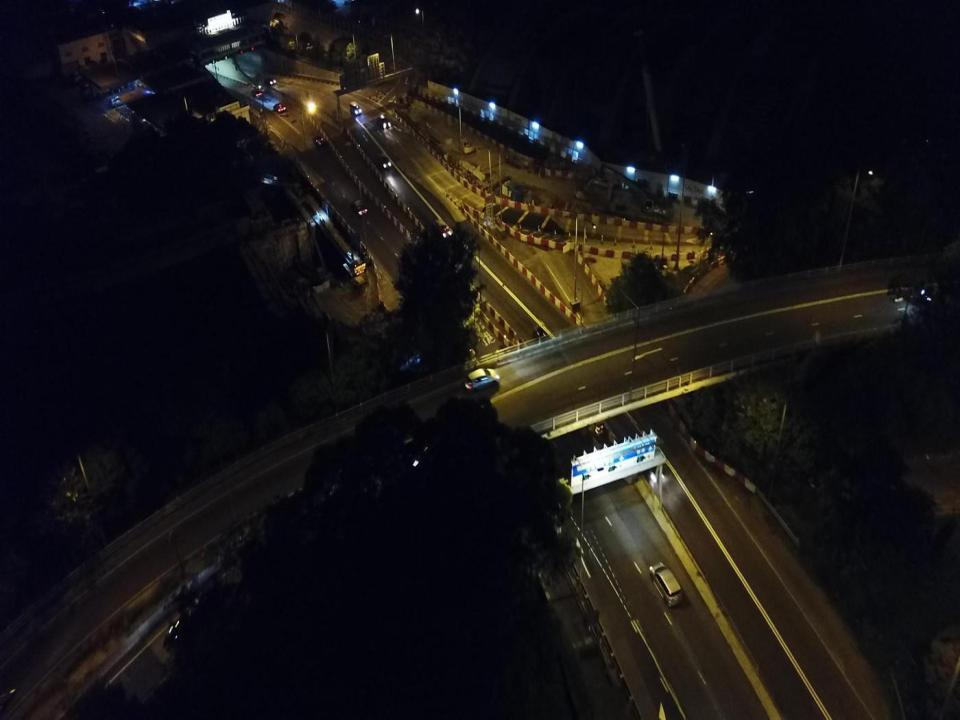bus: (571, 381, 606, 440)
car: (639, 448, 665, 482), (463, 368, 501, 390), (434, 218, 452, 240), (533, 325, 549, 344), (351, 198, 368, 215), (376, 113, 391, 130), (376, 154, 392, 169), (109, 96, 124, 107), (273, 103, 286, 114), (250, 88, 263, 99), (312, 135, 324, 146), (264, 78, 276, 86)
truck: (349, 102, 362, 114)
van: (649, 561, 684, 608)
